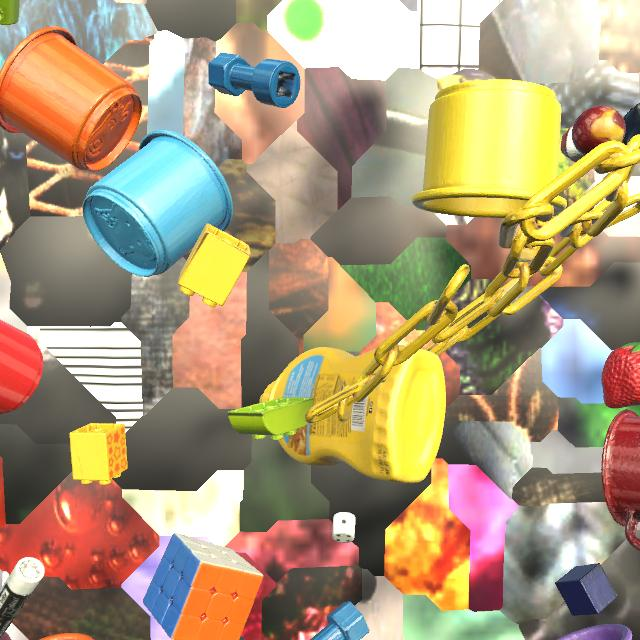ycb_006_mustard_bottle: (259, 345, 446, 483)
ycb_012_strawberry: (601, 342, 640, 409)
